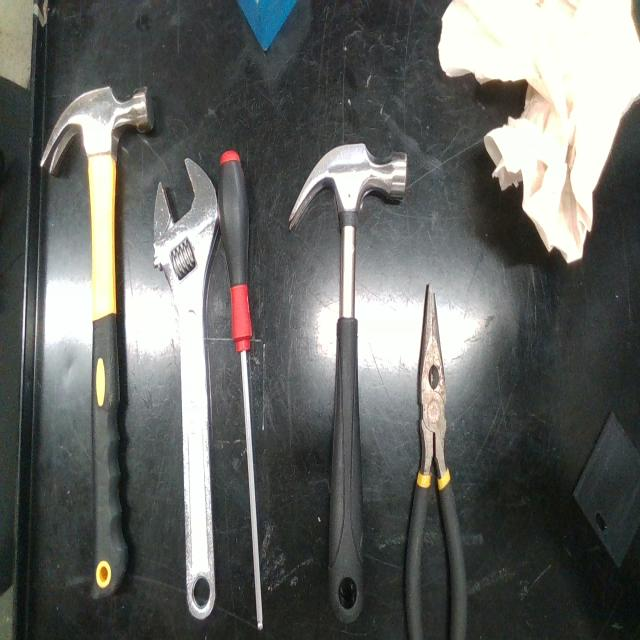Screwdriver: (218, 151, 262, 630)
